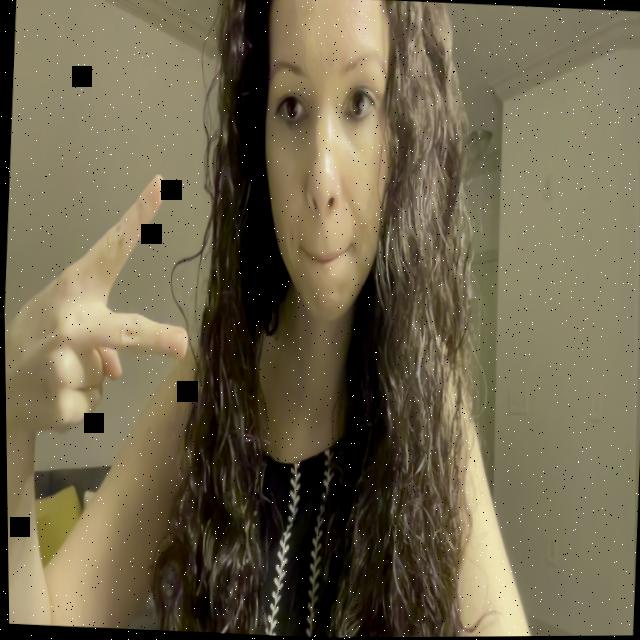Scissors: (2, 156, 200, 453)
